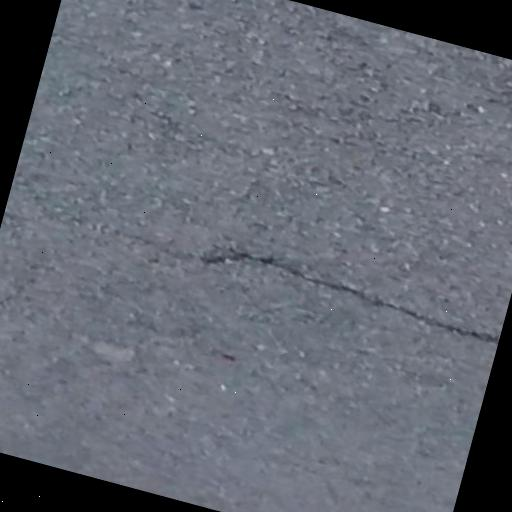spalling: (192, 245, 497, 349)
